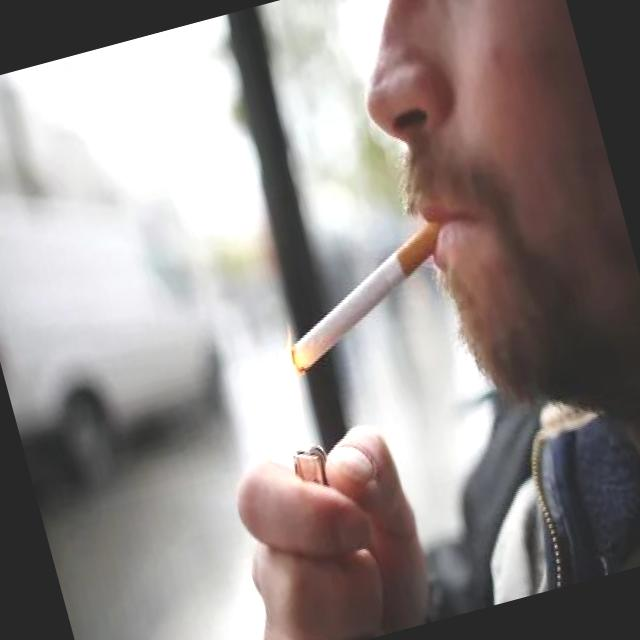smoke: (260, 212, 470, 379)
